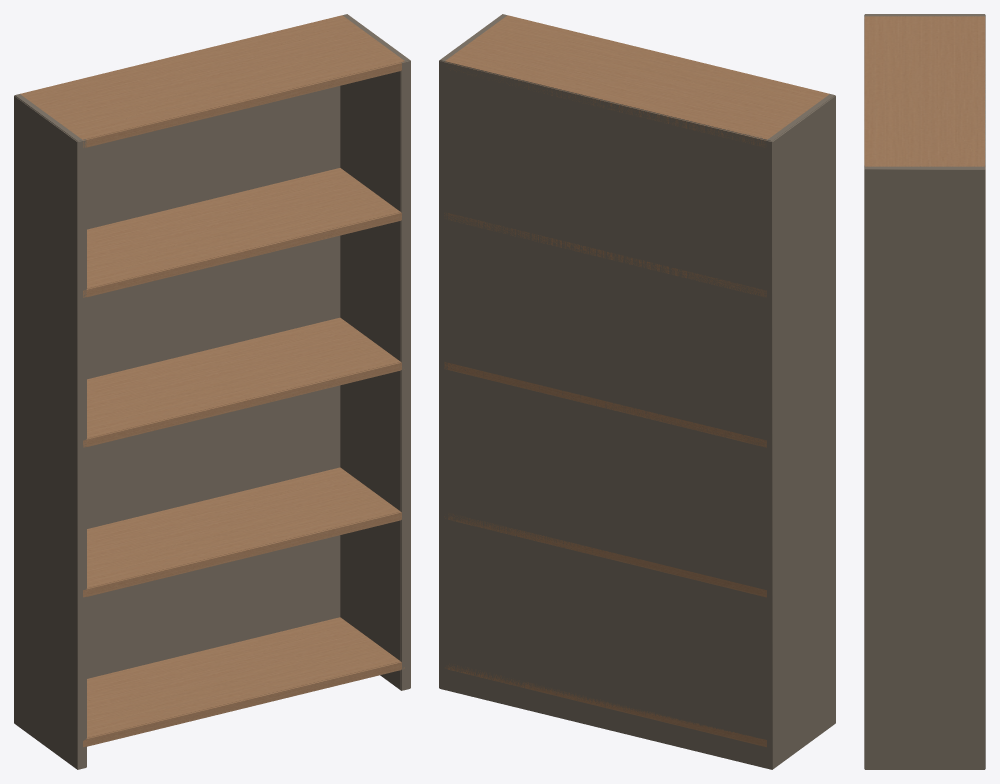
The model's file is contemporary.bookcase.gltf.
3 views of the same model, side by side, from view 1: azimuth 30°, elevation 25°; view 2: azimuth 150°, elevation 25°; view 3: azimuth 270°, elevation 25° (orthographic). The views are drawn at different scales.
Parts seen in each view (by area): view 1: contemporary.bookcase.upright; view 2: contemporary.bookcase.upright; view 3: contemporary.bookcase.upright.
Boxes of the visible parts, x1=… form: contemporary.bookcase.upright: x1=14, y1=14, x2=410, y2=769; contemporary.bookcase.upright: x1=439, y1=14, x2=835, y2=769; contemporary.bookcase.upright: x1=864, y1=14, x2=985, y2=769.
Size of the model in its own units: 1 by 1.8 by 0.33.
2 materials, 1 textured.
